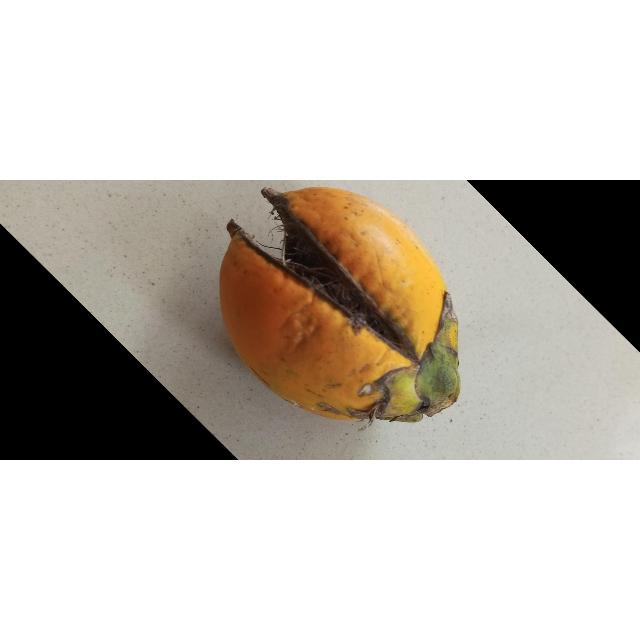damaged: (218, 187, 462, 424)
